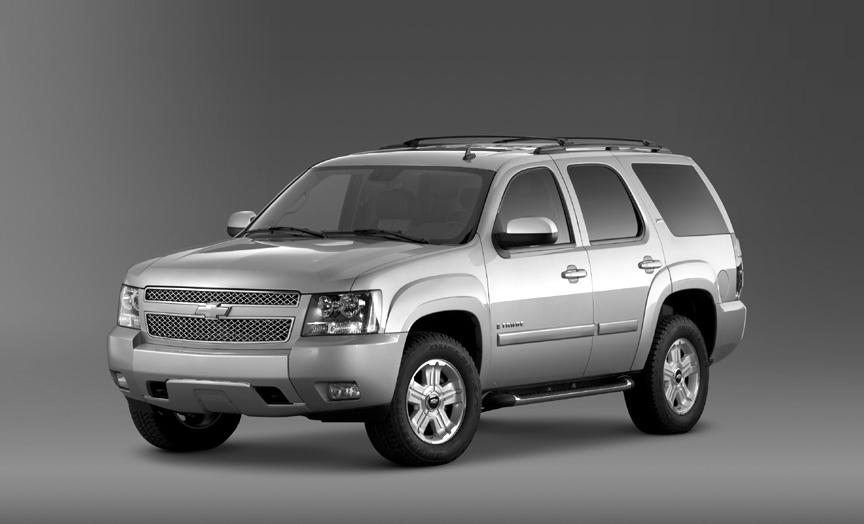car: (108, 129, 754, 465)
